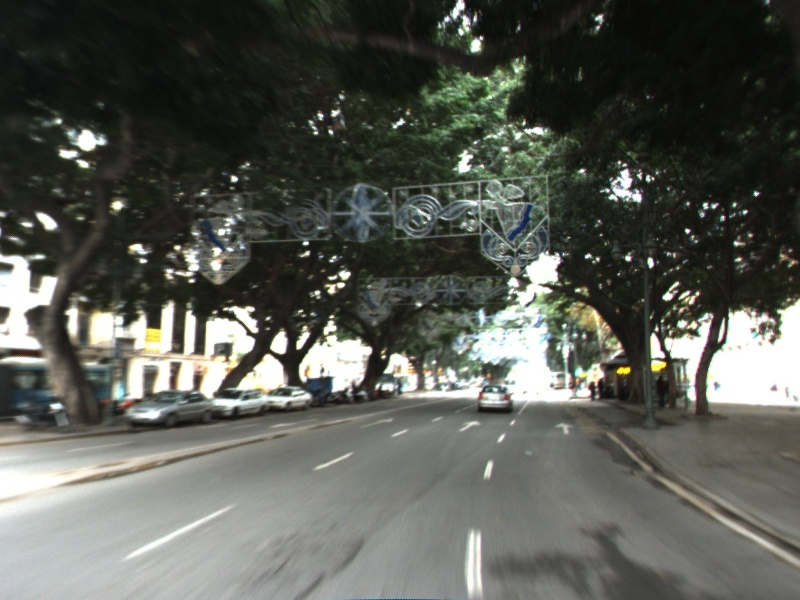STRAIGHT: (357, 416, 397, 430), (457, 417, 484, 433), (552, 420, 577, 437)
